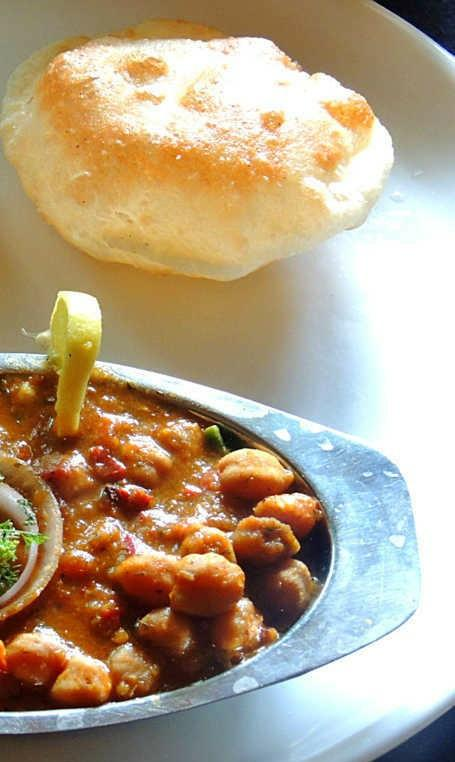Bhatura: (0, 16, 392, 294)
